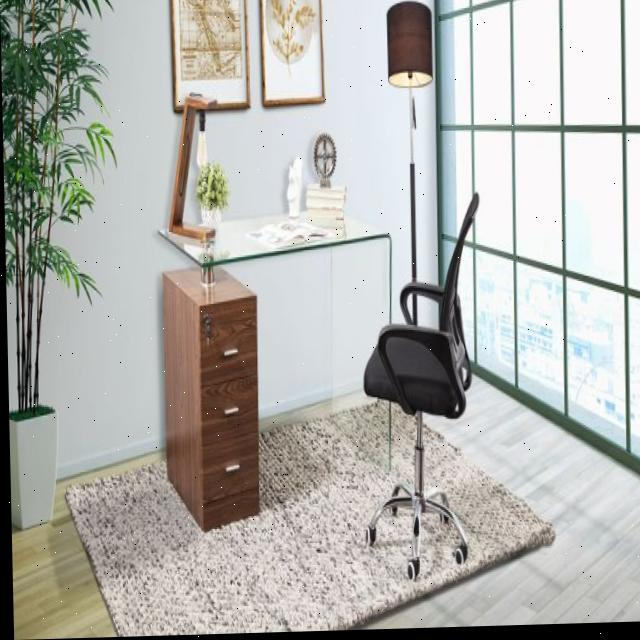chair: (354, 193, 485, 592)
table: (156, 211, 397, 521)
